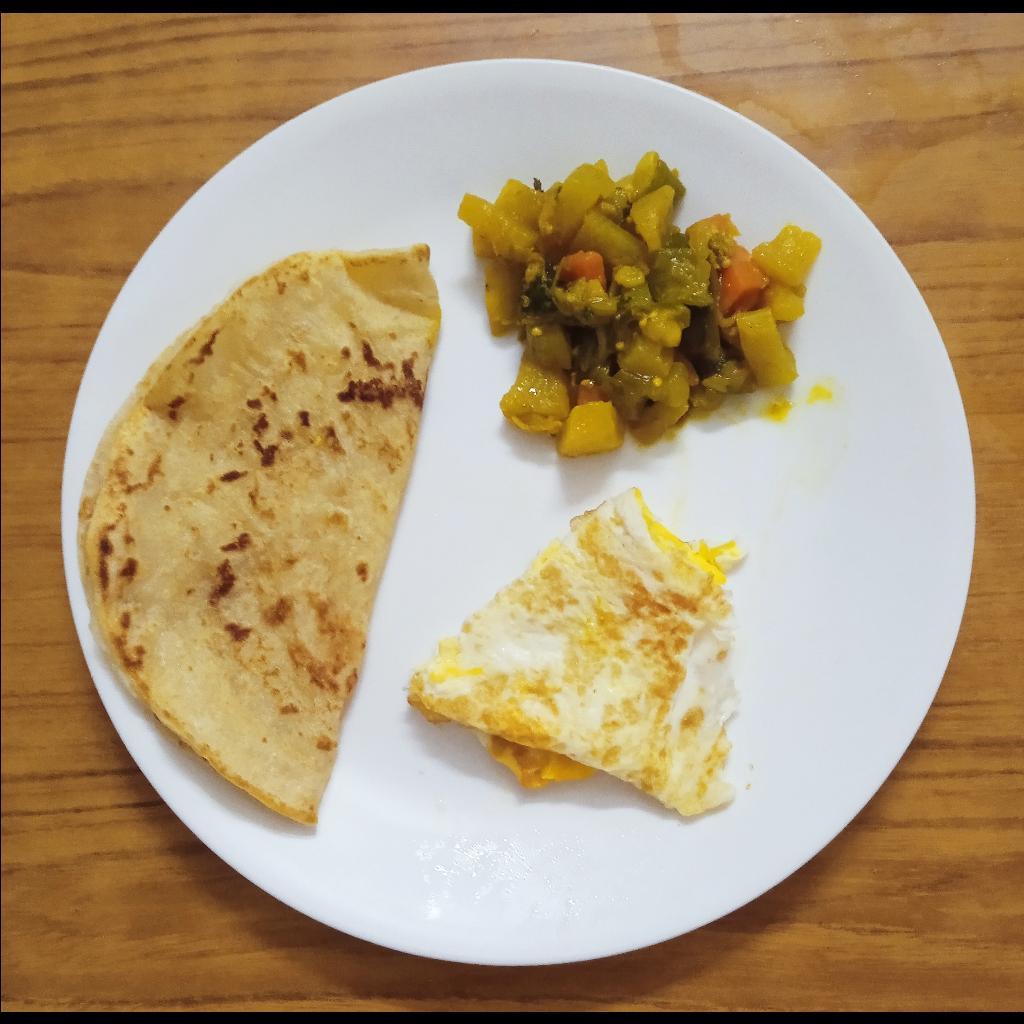egg-poached: (409, 485, 757, 818)
ruti: (73, 243, 442, 834)
vegetable: (455, 151, 824, 462)
